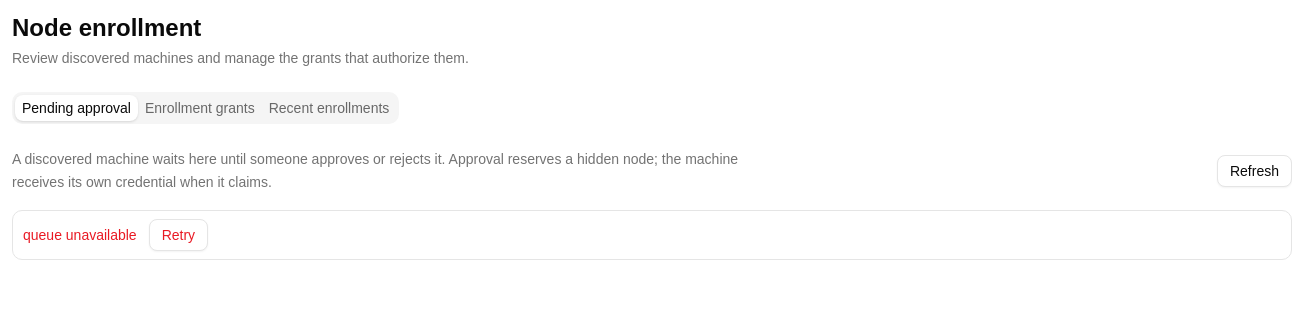
Scenario: node enrollment workspace › reports a failed queue load and retries on demand
The image size is (1304, 313).
Expected: the message shows "queue unavailable", [23,226,137,242]
Click the button "Retry": [178, 234] box [149,218,208,250]
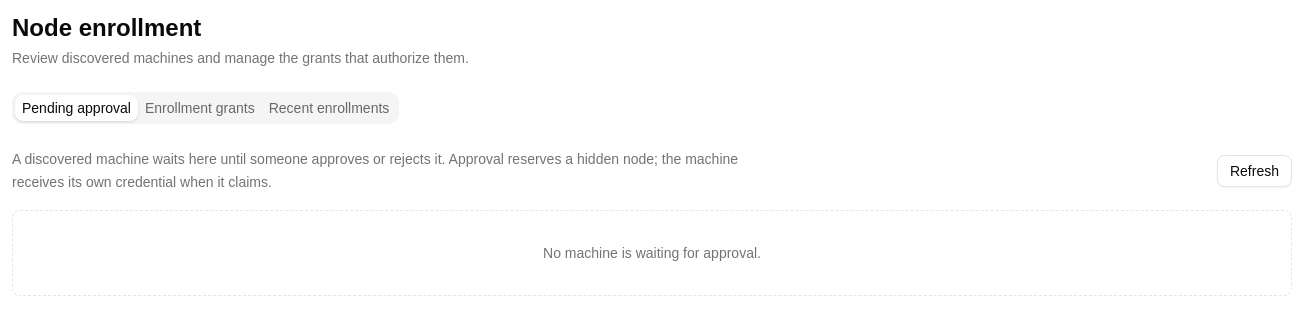
Expected: the text "No machine is waiting for approval." is shown, [12,210,1292,296]
